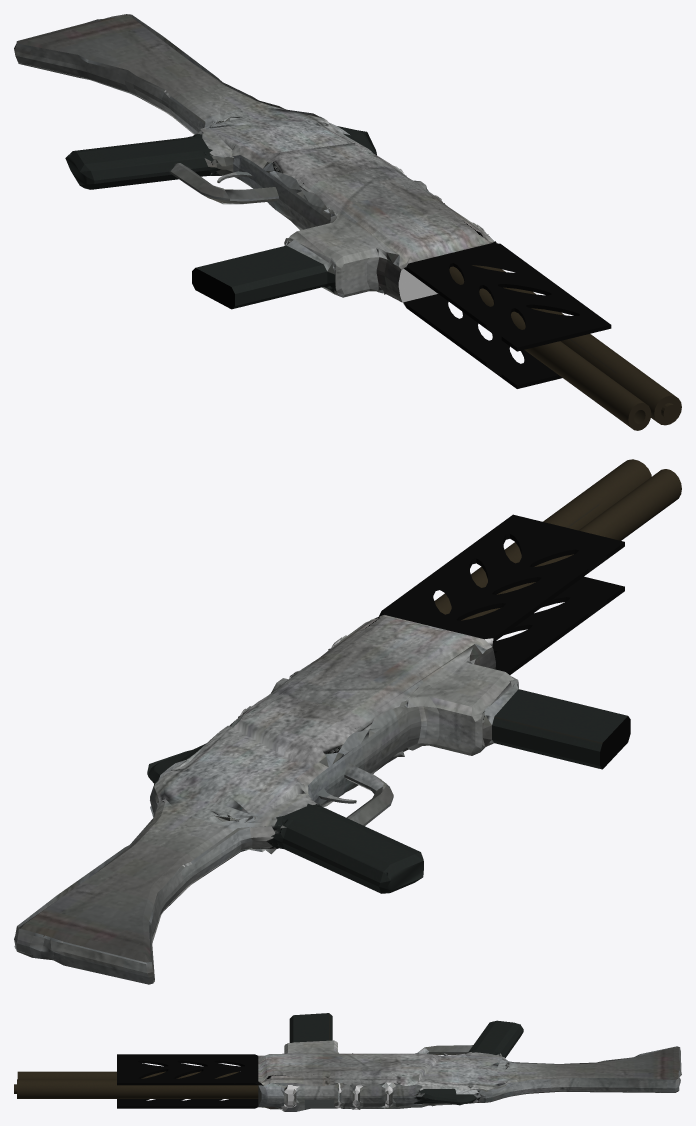
Rendered from metralleta.obj.
3 views of the same model, one above another, from view 1: azimuth 30°, elevation 25°; view 2: azimuth 150°, elevation 25°; view 3: azimuth 270°, elevation 25° (orthographic). The views are drawn at different scales.
Visible parts, largest first — view 1: Cylinder001; view 2: Cylinder001; view 3: Cylinder001.
Boxes of the visible parts, x1,y1,x2,y2 form: Cylinder001: [14, 14, 681, 430]; Cylinder001: [14, 459, 681, 984]; Cylinder001: [14, 1013, 681, 1111].
Bounding box in the file's own units: 2.46 × 0.473 × 8.22.
Materials: 1 (1 with a texture image).
